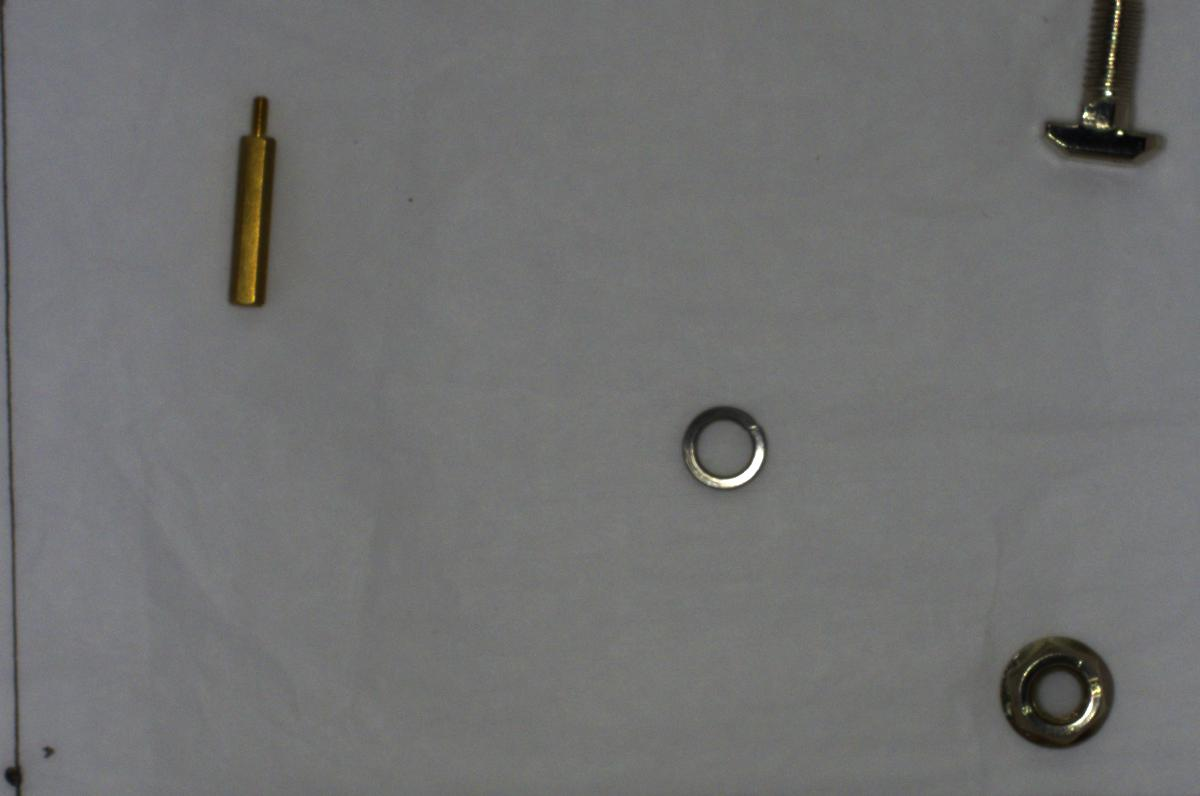Flange nut: (985, 627, 1121, 752)
Hexagon pillar: (213, 86, 280, 314)
Spring washer: (675, 400, 770, 496)
T-shaped screw: (1028, 1, 1178, 173)
